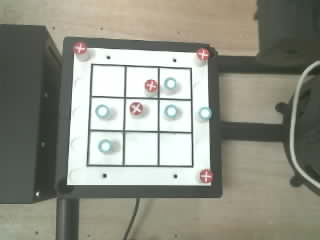blue circle: (95, 104, 109, 117), (164, 104, 177, 118), (98, 139, 111, 153), (164, 77, 176, 89), (199, 107, 211, 119)
board: (67, 42, 212, 185)
cells: (90, 98, 123, 130), (89, 132, 122, 164), (125, 133, 157, 165), (160, 133, 191, 165), (125, 99, 157, 130), (92, 65, 124, 96), (159, 100, 191, 131), (126, 67, 157, 97), (160, 68, 190, 98)
grid: (87, 64, 193, 167)
red cross: (200, 169, 213, 184), (144, 79, 157, 92), (129, 102, 142, 115), (196, 48, 209, 60), (73, 42, 86, 54)
